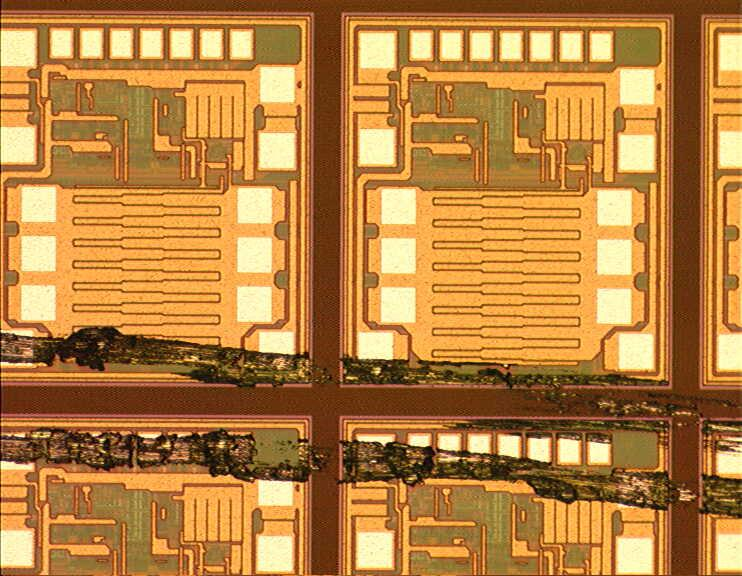SCRATCH: (1, 321, 742, 522)
